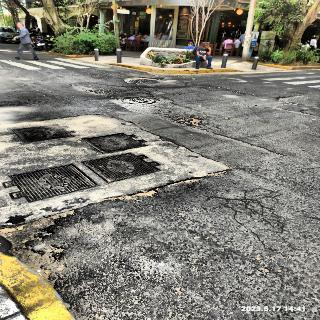alligator-crack: (209, 186, 293, 242), (170, 111, 210, 128)
pothole: (0, 208, 75, 277)
